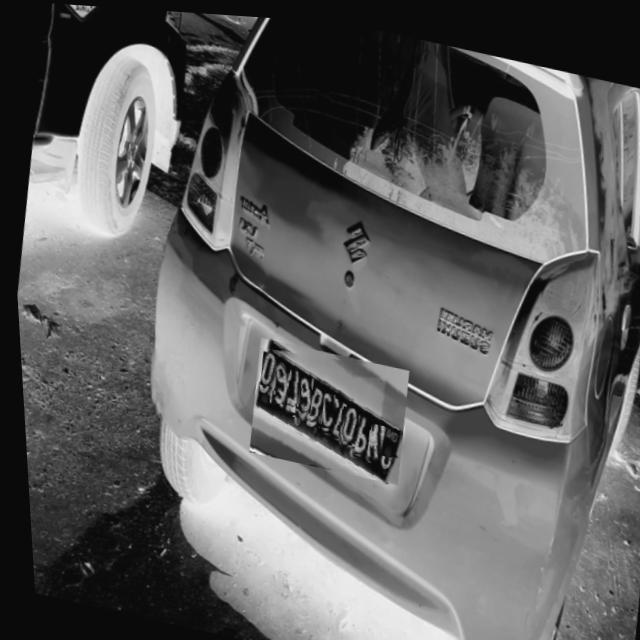0: (333, 402, 356, 440), (254, 347, 275, 384)
6: (288, 371, 310, 410), (265, 357, 286, 394)
7: (323, 393, 344, 436), (280, 364, 300, 403)
B: (300, 380, 322, 419)
C: (311, 388, 332, 426)
IND: (373, 422, 396, 453)
Indian_registered: (250, 344, 397, 477)
M: (356, 418, 381, 459)
P: (347, 409, 369, 452)
